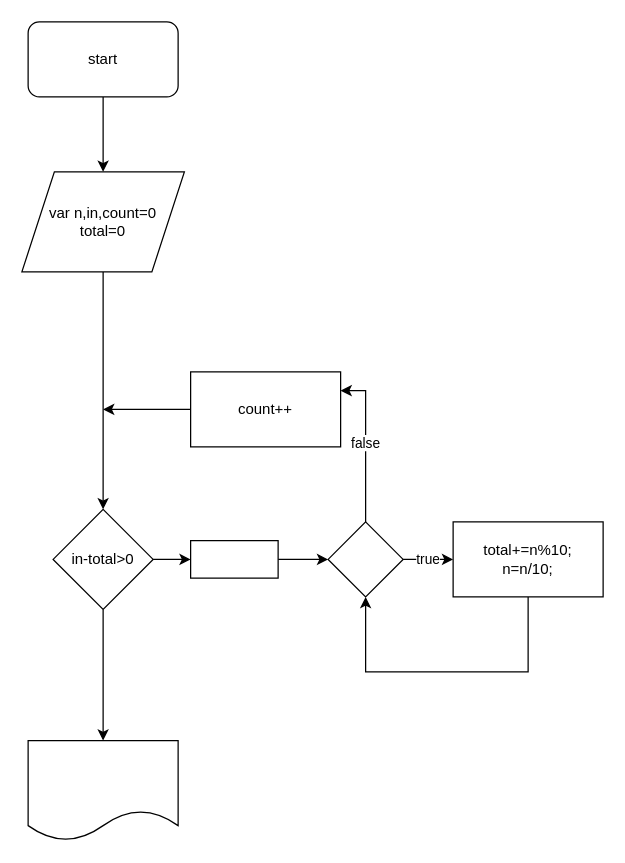
The diagram is 625 pixels wide and 863 high, and some of its shapes have lost their labels. The shapes that lost their labels are listed below. From the top down, each one's box as (x1, y1, x2, y2) in pixels, then its label:
(189, 539, 278, 578): n=in-total
(327, 521, 403, 597): n>0
